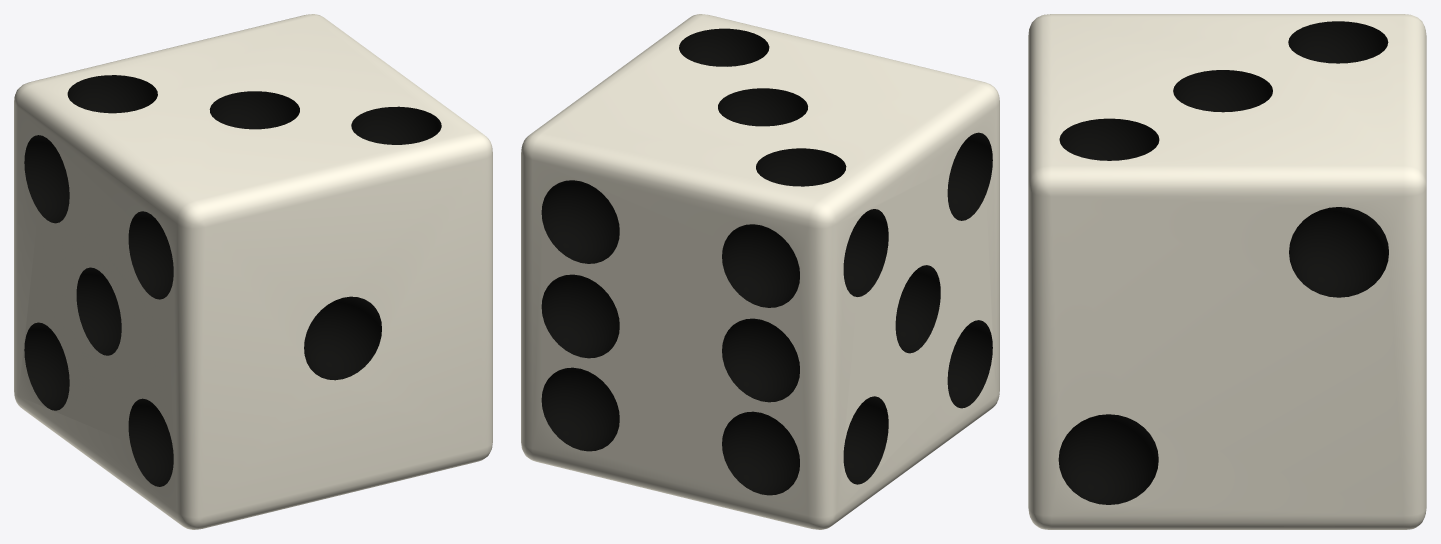
Rendered from Dice.fbx.
The picture shows the model from 3 angles, left to right: view 1: azimuth 30°, elevation 25°; view 2: azimuth 150°, elevation 25°; view 3: azimuth 270°, elevation 25°; orthographic projection. The views are drawn at different scales.
Visible parts, largest first — view 1: Box001; view 2: Box001; view 3: Box001.
Boxes of the visible parts, x1=… form: Box001: x1=14, y1=14, x2=492, y2=529; Box001: x1=521, y1=14, x2=999, y2=529; Box001: x1=1028, y1=14, x2=1426, y2=529.
Bounding box in the file's own units: 40 × 40 × 40.
